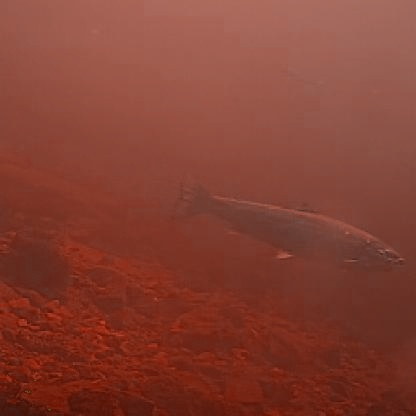salmon: (165, 166, 407, 270)
